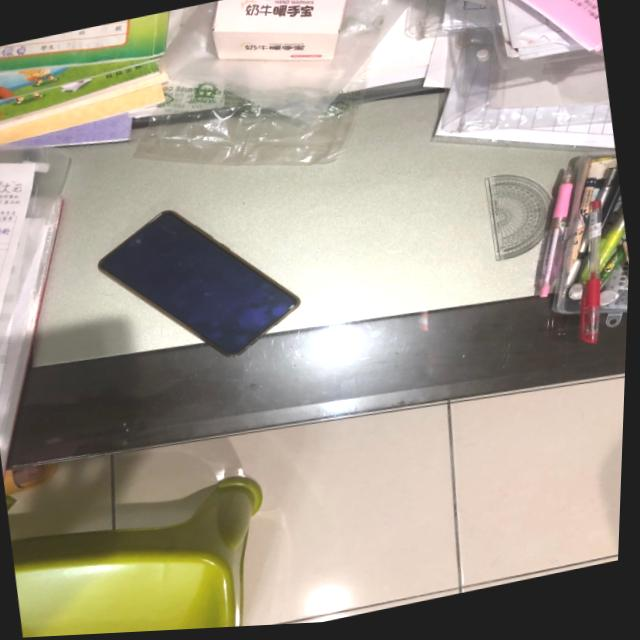Smartphone: (81, 200, 329, 371)
